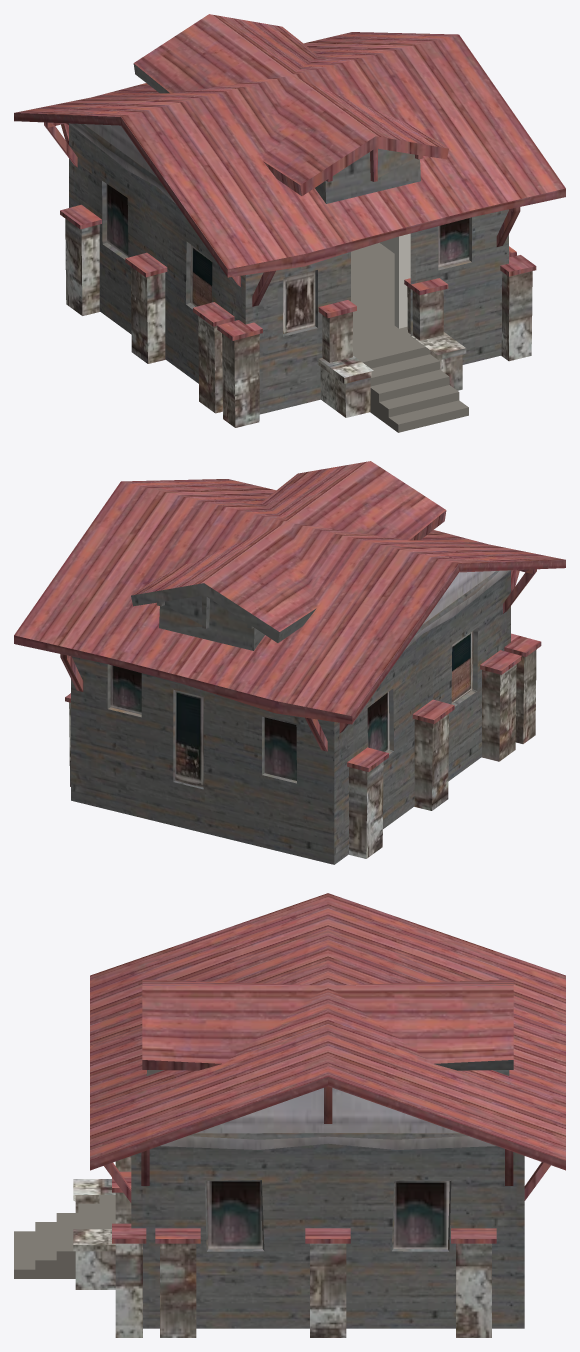
The model's file is rural-house.zfix-v1.lod0.glb.
3 views of the same model, one above another, from view 1: azimuth 30°, elevation 25°; view 2: azimuth 150°, elevation 25°; view 3: azimuth 270°, elevation 25° (orthographic). The views are drawn at different scales.
Visible parts, largest first — view 1: Rural_HouseOld_1_Material #39_0, Walkable floors and stairs (×2); view 2: Rural_HouseOld_1_Material #39_0; view 3: Rural_HouseOld_1_Material #39_0, Walkable floors and stairs.
Part boxes in pixels (x1,y1,x2,y2): Rural_HouseOld_1_Material #39_0: [14, 14, 565, 427]; Walkable floors and stairs (×2): [351, 233, 468, 432]; Rural_HouseOld_1_Material #39_0: [14, 461, 565, 864]; Rural_HouseOld_1_Material #39_0: [73, 893, 565, 1337]; Walkable floors and stairs: [14, 1195, 115, 1278].
Bounding box in the file's own units: 6.9 × 4.79 × 8.76.
Materials: 3 (1 with a texture image).
